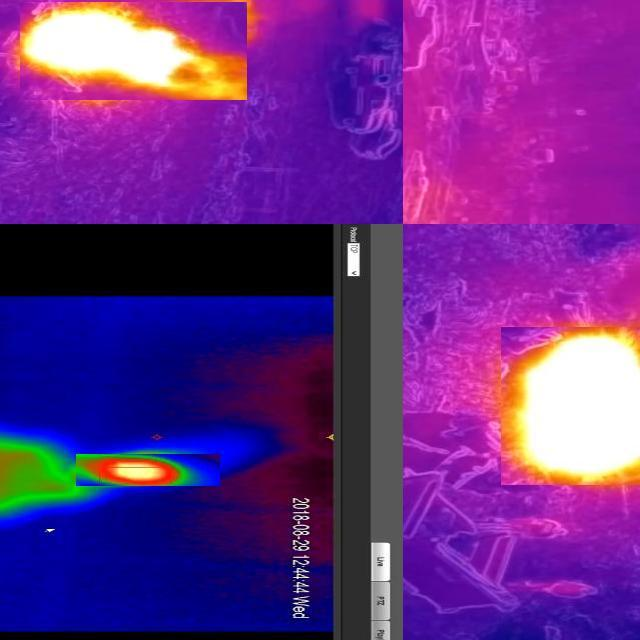fire: (20, 3, 247, 101), (501, 328, 640, 486), (76, 455, 220, 487)
